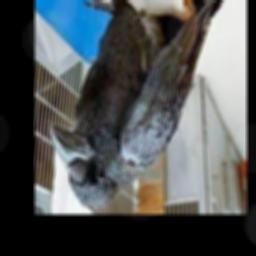Crow: (50, 0, 229, 211)
